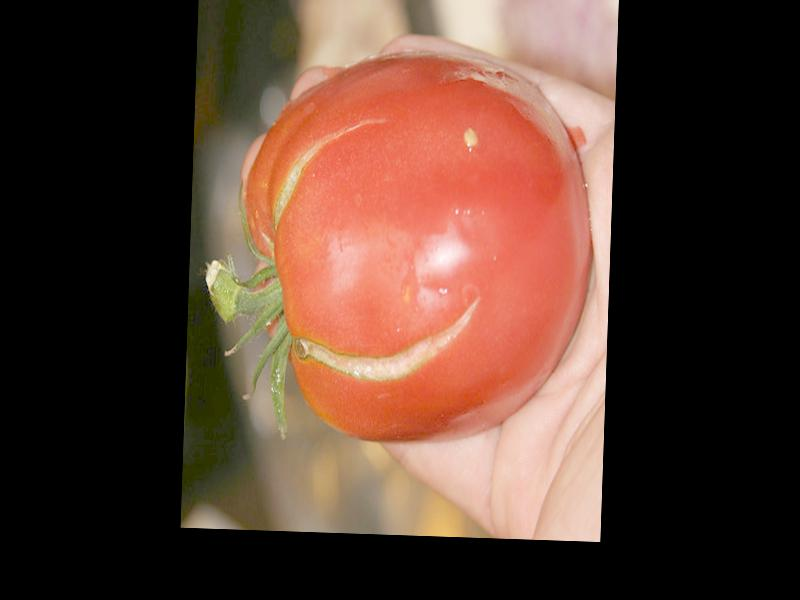Tomato: (237, 47, 597, 443)
